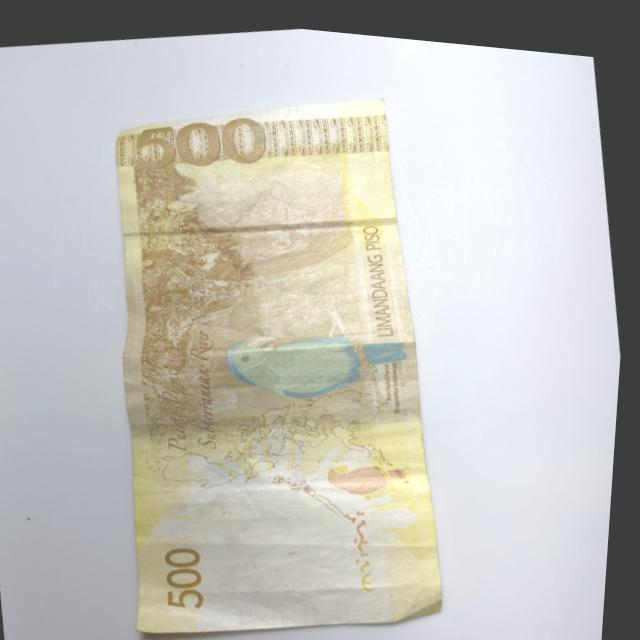500_big_parrot: (219, 303, 417, 416)
500_parrot_watermark: (328, 442, 416, 494)
value_watermark: (281, 565, 347, 601)
watermark: (188, 480, 366, 614)
